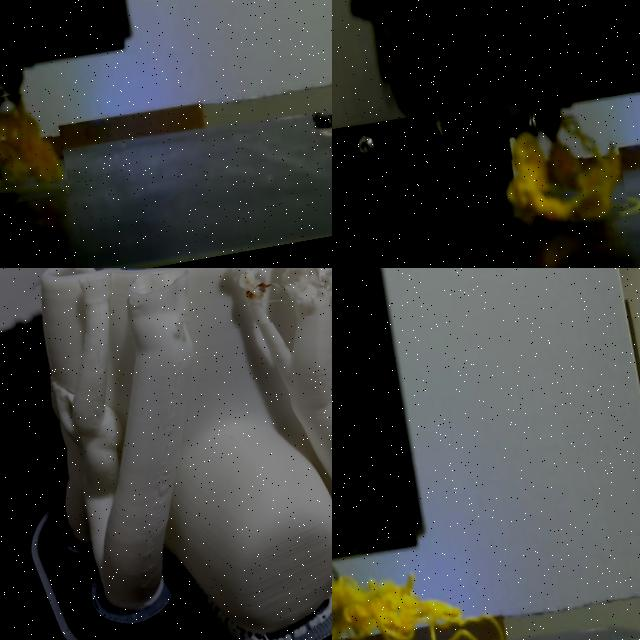spaghetti: (506, 119, 621, 227), (332, 576, 504, 640), (218, 268, 332, 329), (0, 99, 61, 182)
